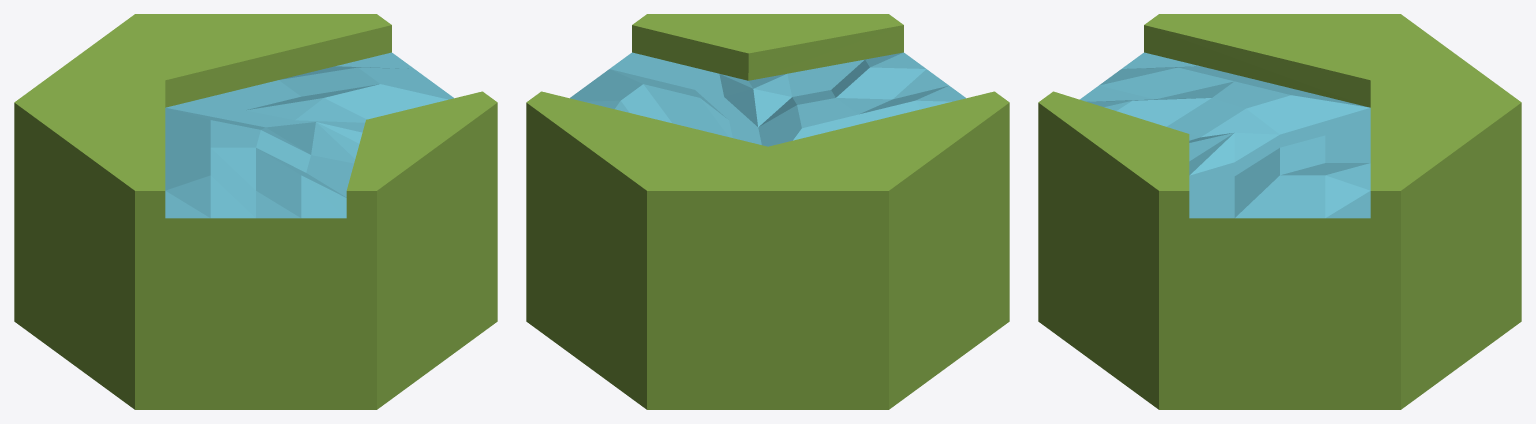
File: river2.fbx
3 views of the same model, side by side, from view 1: azimuth 30°, elevation 25°; view 2: azimuth 150°, elevation 25°; view 3: azimuth 270°, elevation 25° (orthographic).
Visible parts, largest first — view 1: Cylinder; view 2: Cylinder; view 3: Cylinder.
Part boxes in pixels (x1,y1,x2,y2): Cylinder: (14,14,497,409); Cylinder: (526,14,1009,409); Cylinder: (1038,14,1521,409).
Size of the model in its own units: 1.73 by 1 by 2.
